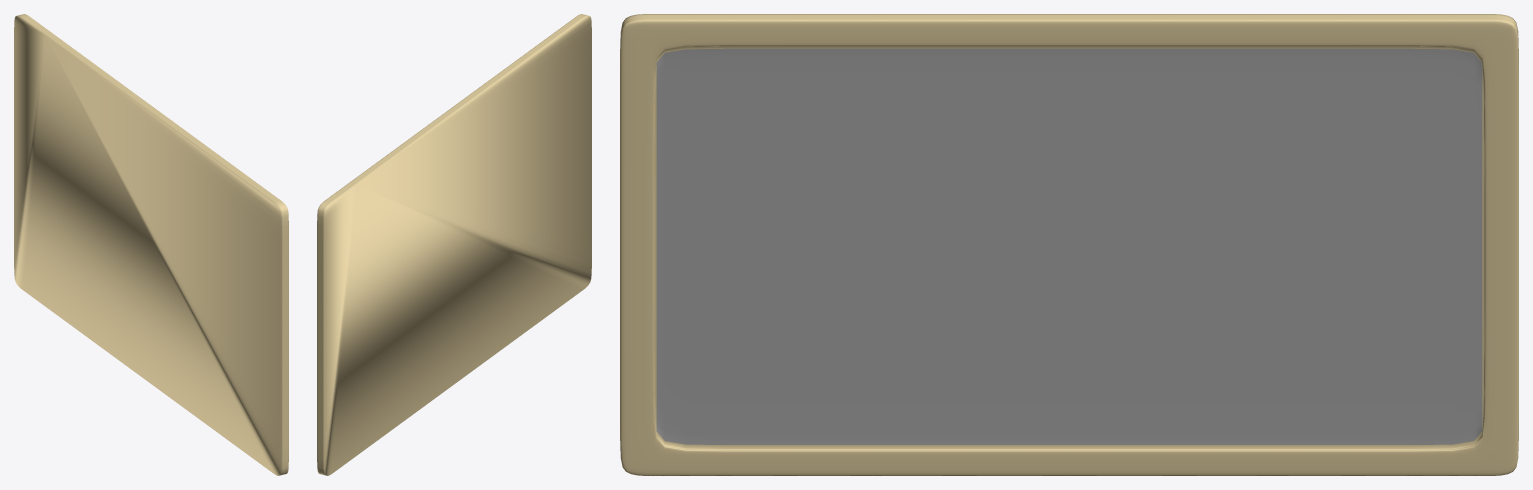
Rendered from specchio.fbx.
3 renders of one model, left to right at view 1: azimuth 30°, elevation 25°; view 2: azimuth 150°, elevation 25°; view 3: azimuth 270°, elevation 25°, orthographic. The views are drawn at different scales.
Parts seen in each view (by area): view 1: specchio; view 2: specchio; view 3: specchio.
Boxes of the visible parts, bbox=[...] form: specchio: bbox=[14, 14, 288, 475]; specchio: bbox=[317, 14, 591, 475]; specchio: bbox=[620, 14, 1518, 475].
Bounding box in the file's own units: 3.53 × 112 × 200.
